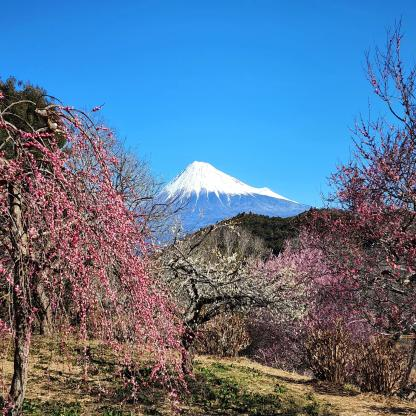Ume: (0, 81, 193, 416), (259, 13, 416, 390), (148, 208, 289, 362)
